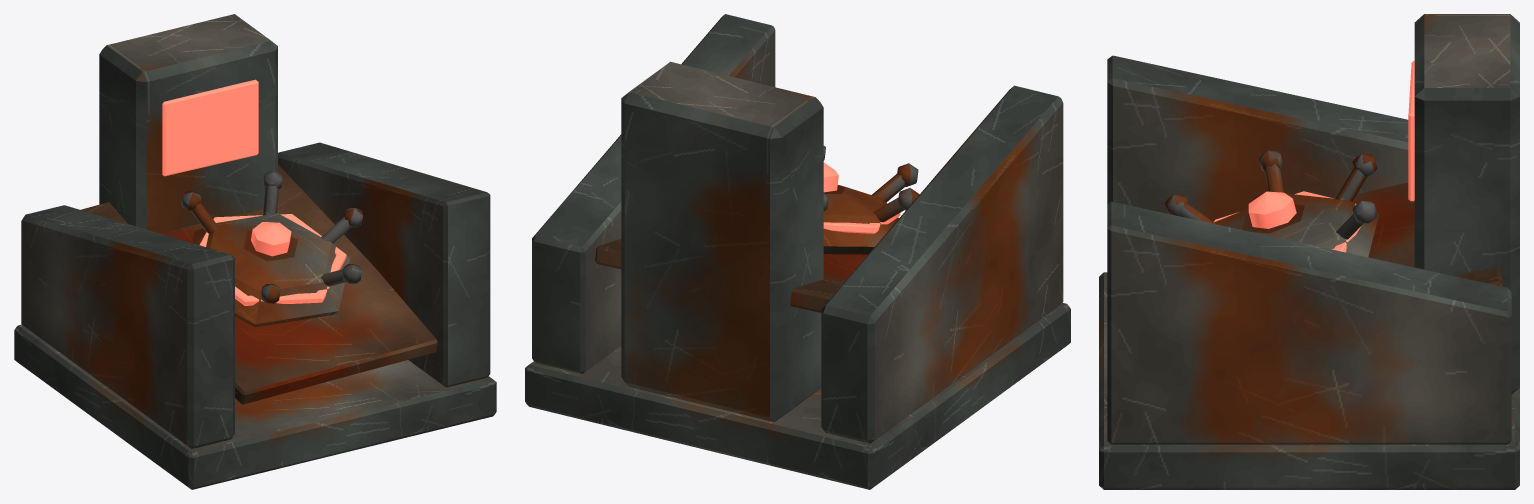
The model's file is R4X_ExplosiveTrapDeployer_LOD1.glb.
The picture shows the model from 3 angles, left to right: view 1: azimuth 30°, elevation 25°; view 2: azimuth 150°, elevation 25°; view 3: azimuth 270°, elevation 25°; orthographic projection. The views are drawn at different scales.
Visible parts, largest first — view 1: R4X_ExplosiveTrapDeployer_LOD1; view 2: R4X_ExplosiveTrapDeployer_LOD1; view 3: R4X_ExplosiveTrapDeployer_LOD1.
Part boxes in pixels (x1,y1,x2,y2): R4X_ExplosiveTrapDeployer_LOD1: [14, 14, 496, 489]; R4X_ExplosiveTrapDeployer_LOD1: [525, 14, 1070, 489]; R4X_ExplosiveTrapDeployer_LOD1: [1099, 14, 1519, 489].
Bounding box in the file's own units: 0.52 × 0.48 × 0.52.
5 materials, 4 textured.
